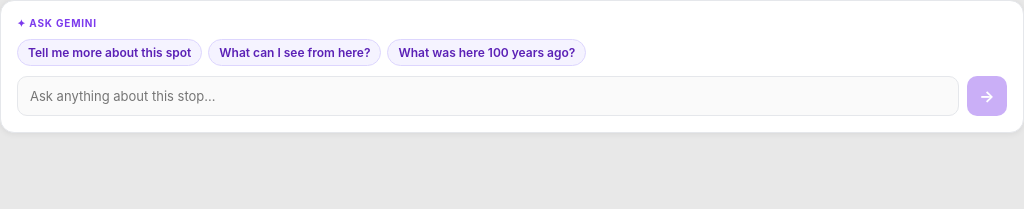
Test case: AskAI › hides suggestion chips after first message
Type "Hi" into the field with placeholder "Ask anything about this stop…".
click(488, 96); type("Hi")  # box [17,76,959,116]
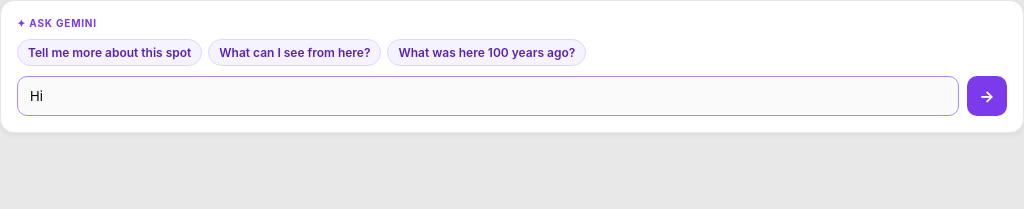
Click the button named "Send question".
click(987, 96)  # box [967,76,1007,116]
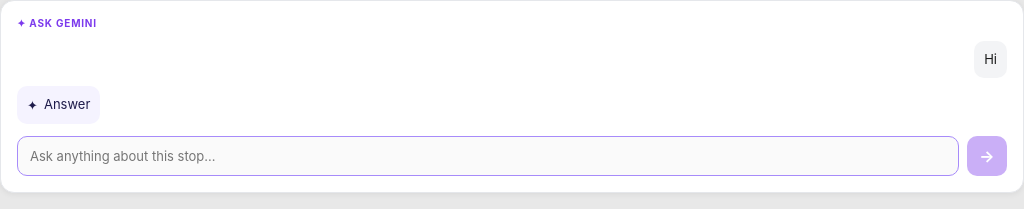
Check: the button "What can I see" is gone
